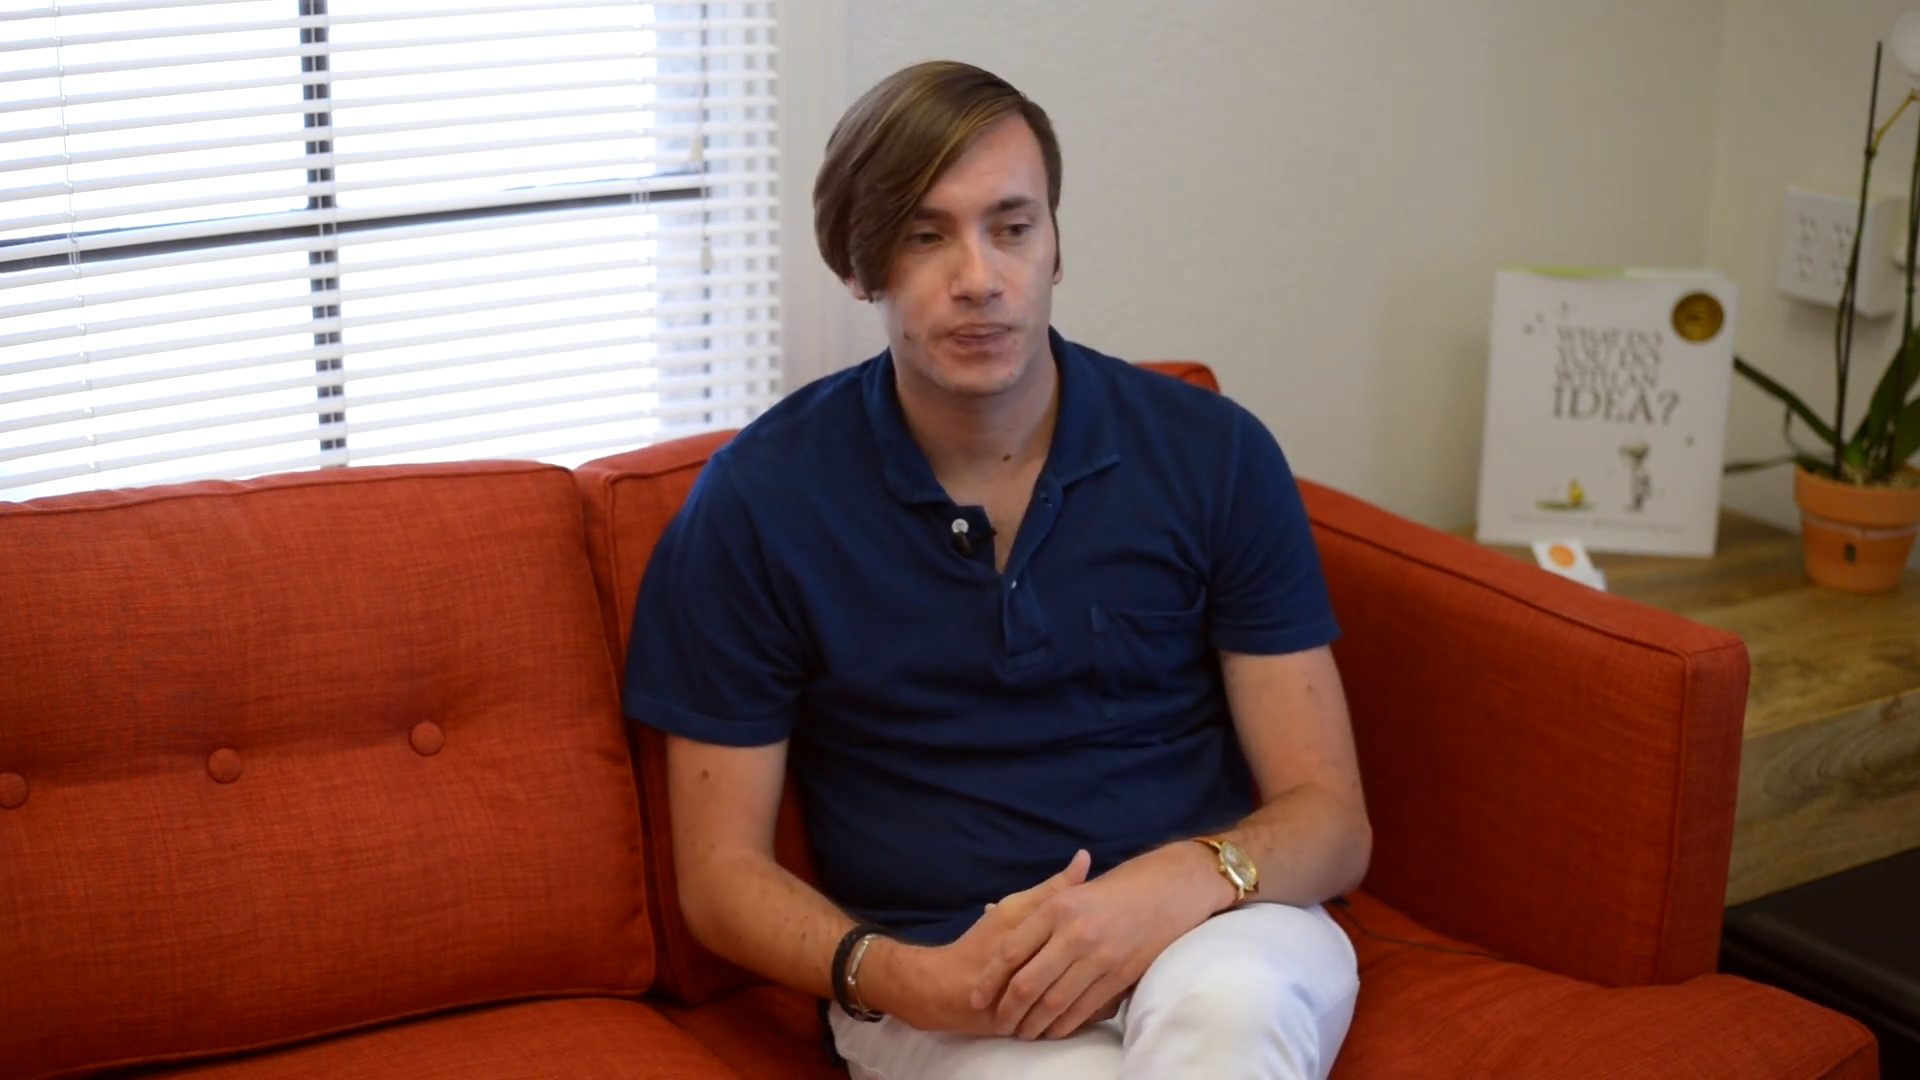Therapist: (603, 18, 1453, 1080)
